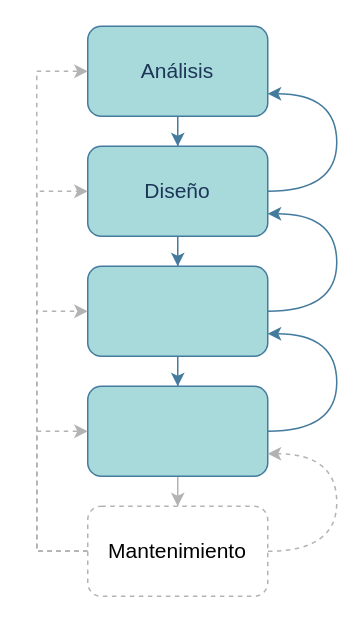
Some shapes in this 363 by 623 pixel diagram are drawn without their labels. The centre of each missing label's shape, as x and y in pixels:
"Codificación" belongs at [177,310].
"Pruebas" belongs at [177,430].
